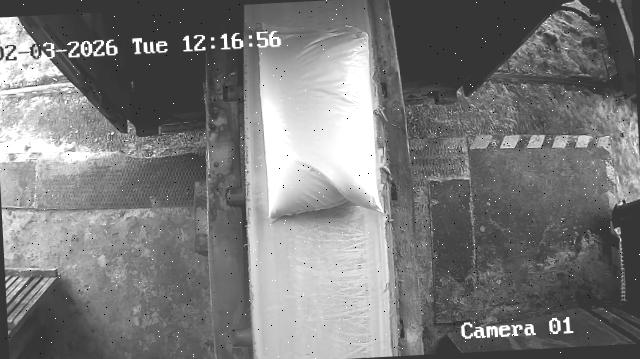bag: (257, 12, 384, 226)
